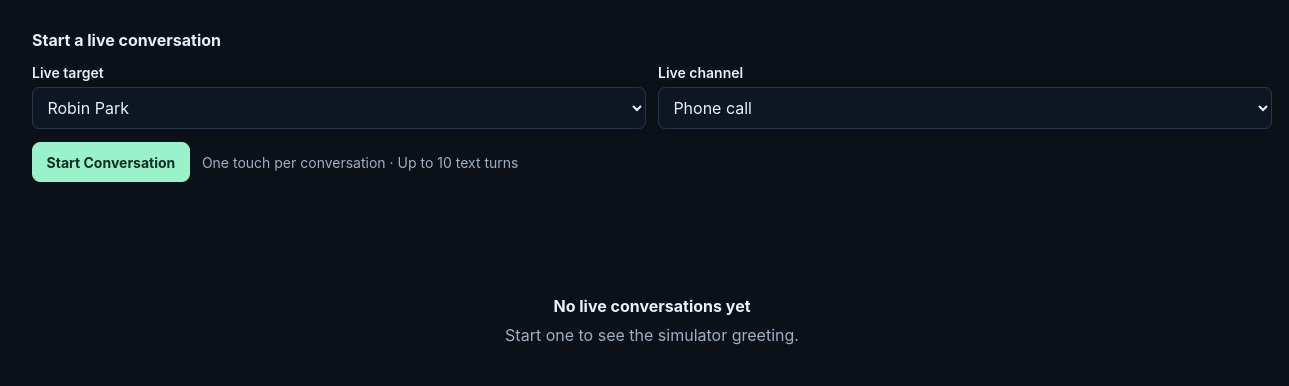
Test case: Live Conversations › retries a timed-out Start with the same payload and key after a reload
The image size is (1289, 386).
Later steps or results of the test are not shown.
Click the button "Start Conversation" at (111, 162), box [32,142,190,182]
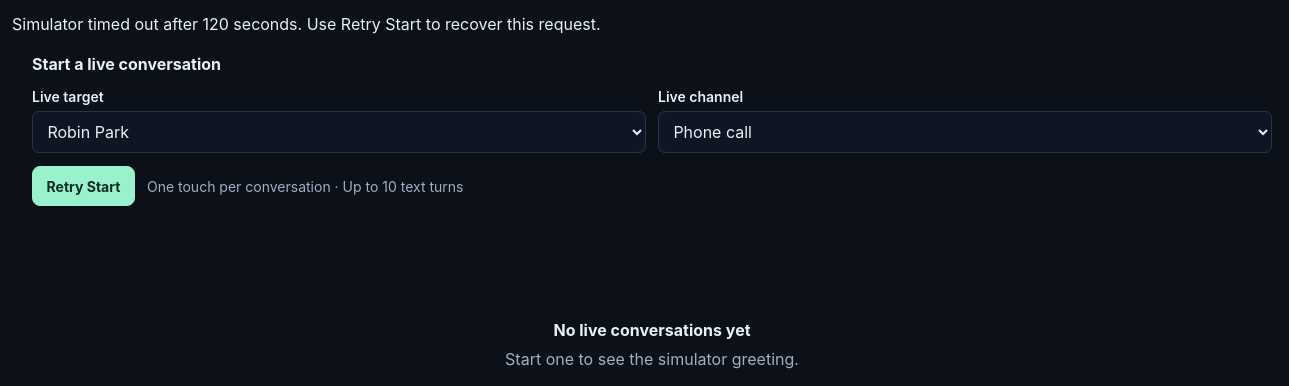
Expected: the message shows "Retry Start", [12,14,600,34]
